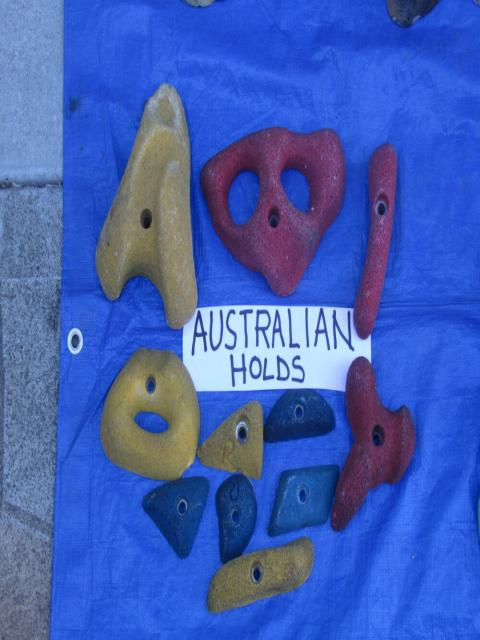crimp: (207, 537, 314, 613), (142, 476, 209, 557), (199, 400, 263, 478), (268, 465, 338, 536)
jug: (353, 143, 396, 338)
pinch: (96, 84, 197, 328)
pocket: (201, 127, 345, 295), (101, 347, 200, 480)
undercling: (264, 389, 335, 442)
